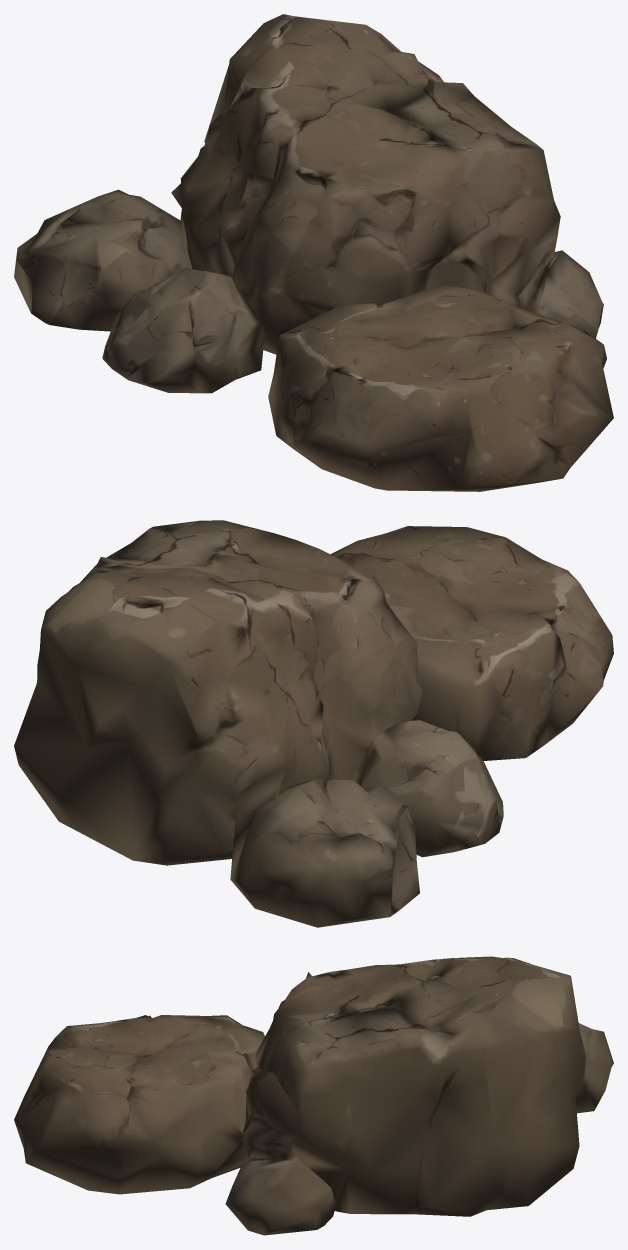
The model's file is rock_A-Covsg_TI.glb.
The picture shows the model from 3 angles, top to bottom: view 1: azimuth 30°, elevation 25°; view 2: azimuth 150°, elevation 25°; view 3: azimuth 270°, elevation 25°; orthographic projection. The views are drawn at different scales.
Visible parts, largest first — view 1: rock_A; view 2: rock_A; view 3: rock_A.
Part boxes in pixels (x1,y1,x2,y2): rock_A: [14, 14, 613, 491]; rock_A: [14, 520, 613, 927]; rock_A: [14, 956, 613, 1235].
Bounding box in the file's own units: 1.05 × 0.5718 × 1.5.
1 material, 1 textured.
